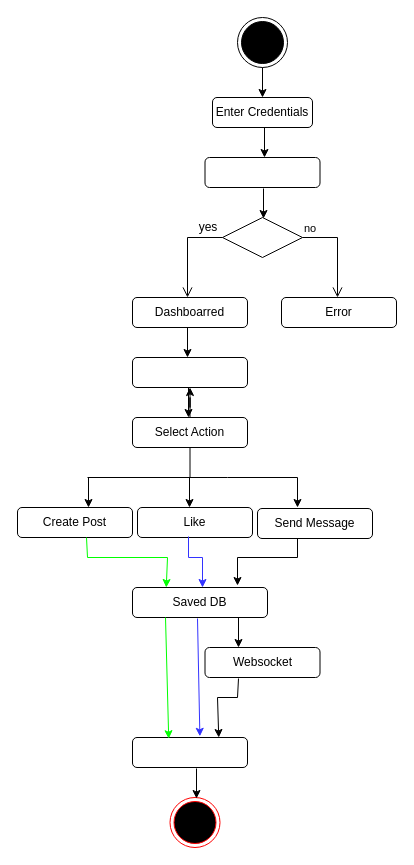
This 414x865 diagram has some shape labels left out. The shapes that lost their labels are listed below. From the top down, each one's centre as x and y in pixels, then its label:
At point (262, 172): "Validate Credentials".
At point (262, 237): "Credentials".
At point (190, 372): "View feed".
At point (190, 752): "Logout".
